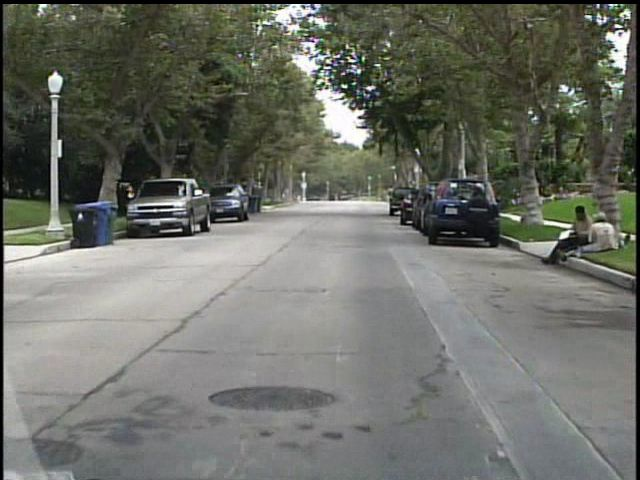person: (543, 206, 590, 267), (583, 211, 617, 253)
